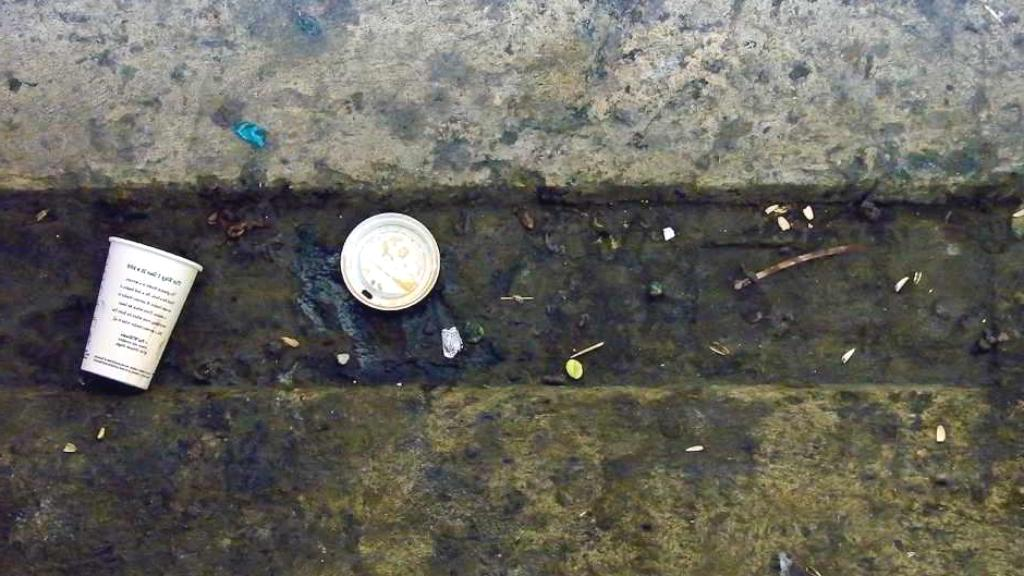garbage: (80, 236, 203, 389), (341, 212, 439, 312)
